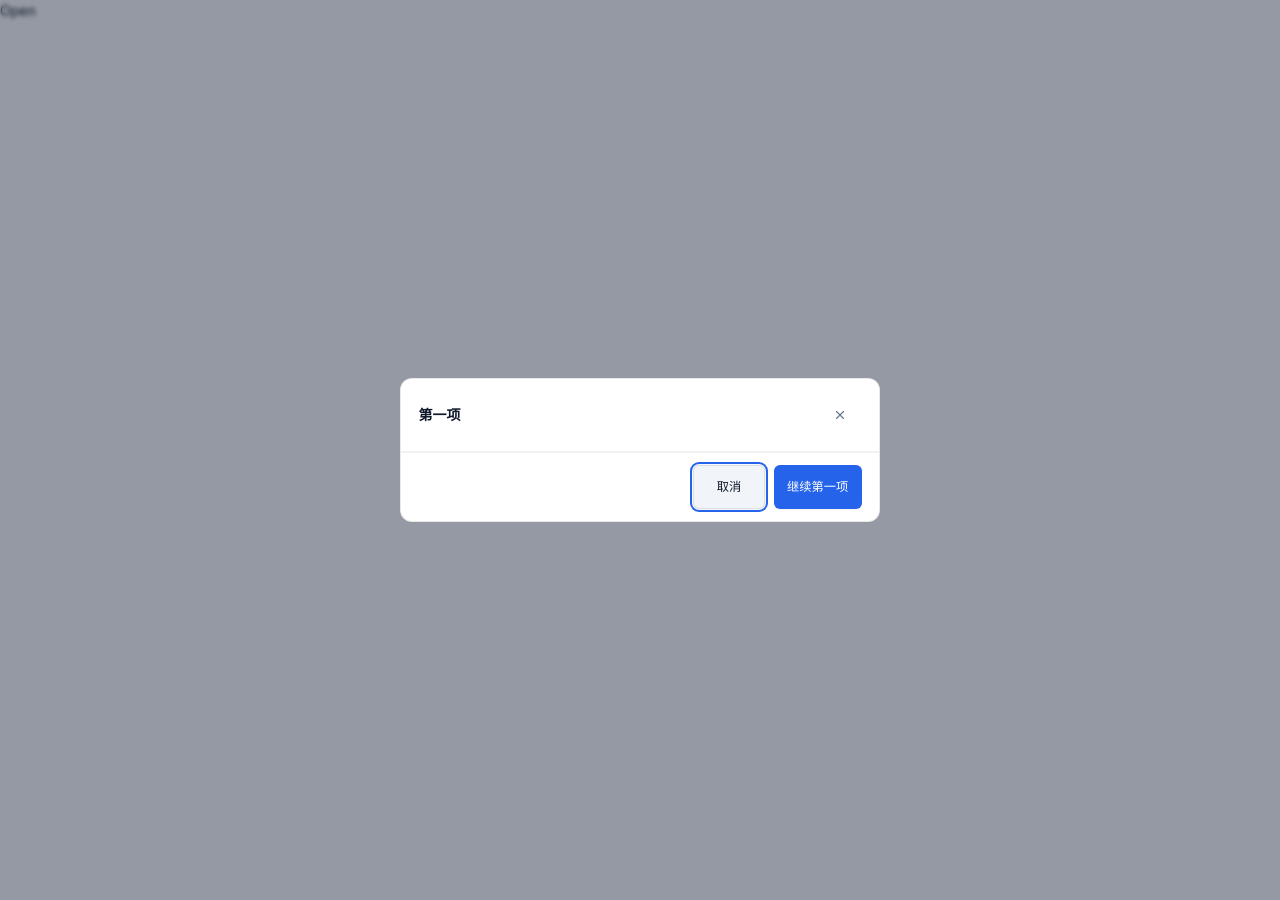
shared confirmation promises › queues requests, resolving each Promise once in order
The image size is (1280, 900).
Expected: the number of dialogs is 1, [400,378,880,522]
Expected: the text "第二项" is not shown
Click the button "继续第一项".
click(818, 487)  # box [774,465,862,509]
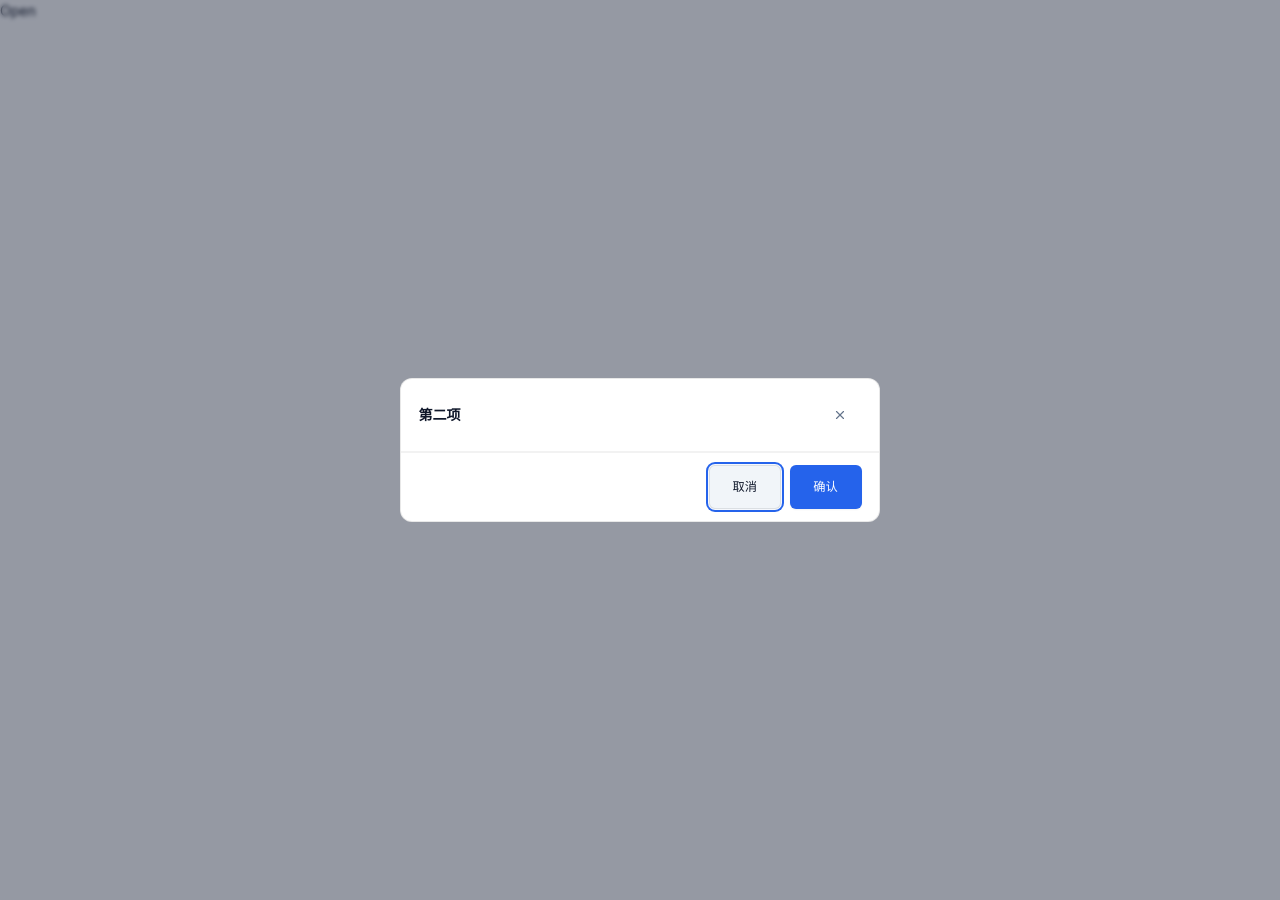
Expected: the text "第二项" is shown, [418,404,460,425]
Click the button "取消".
click(745, 487)  # box [709,465,781,509]
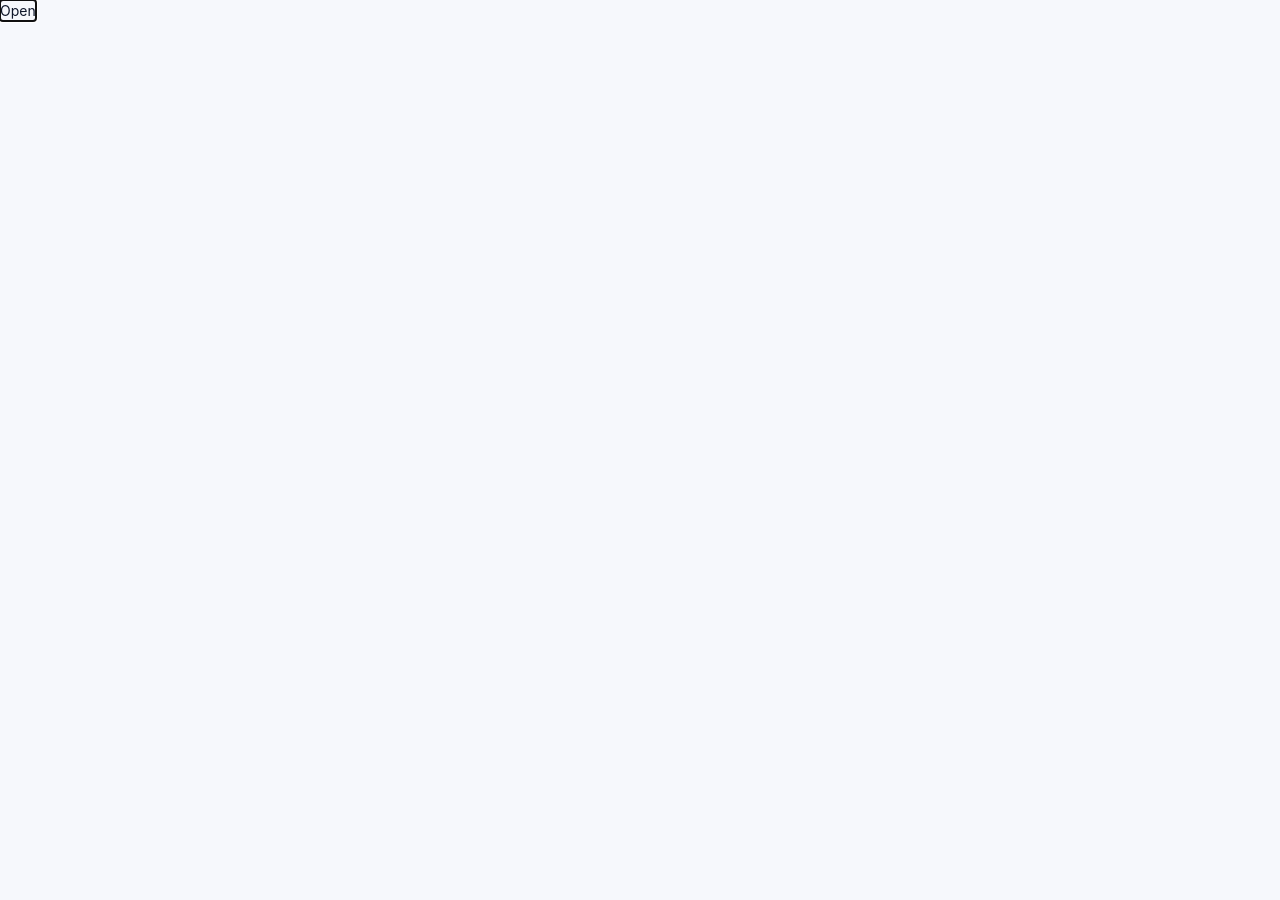
Expected: the dialog is gone
